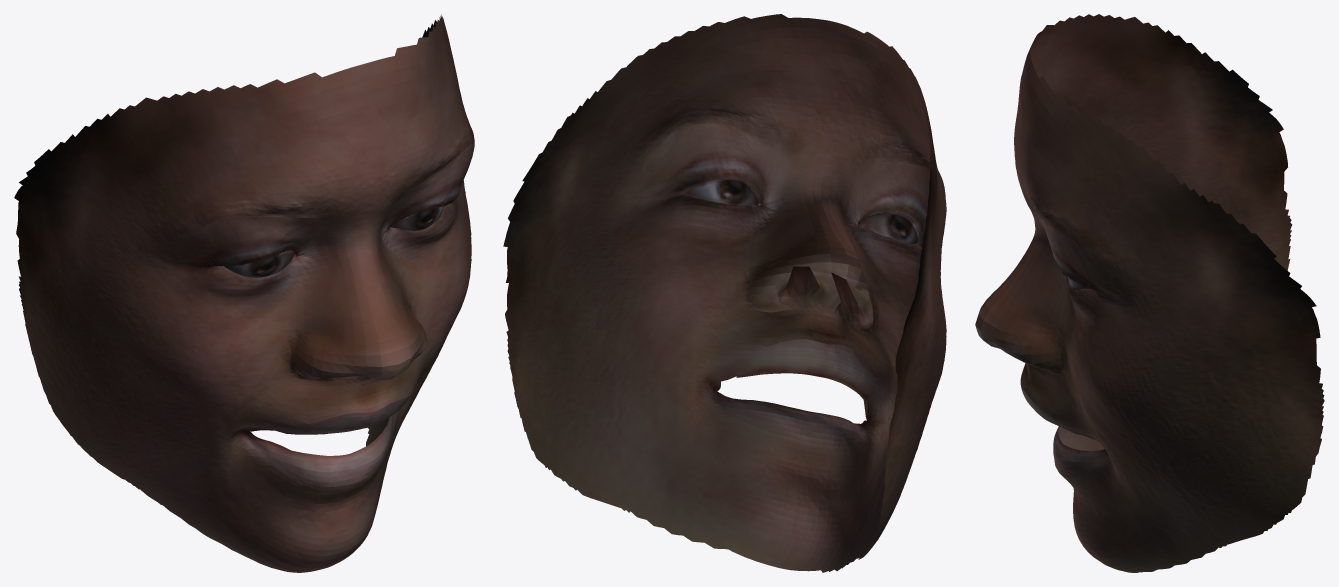
The picture shows the model from 3 angles, left to right: view 1: azimuth 30°, elevation 25°; view 2: azimuth 150°, elevation 25°; view 3: azimuth 270°, elevation 25°; orthographic projection. The views are drawn at different scales.
Size of the model in its own units: 1.37 by 1.74 by 1.08.
